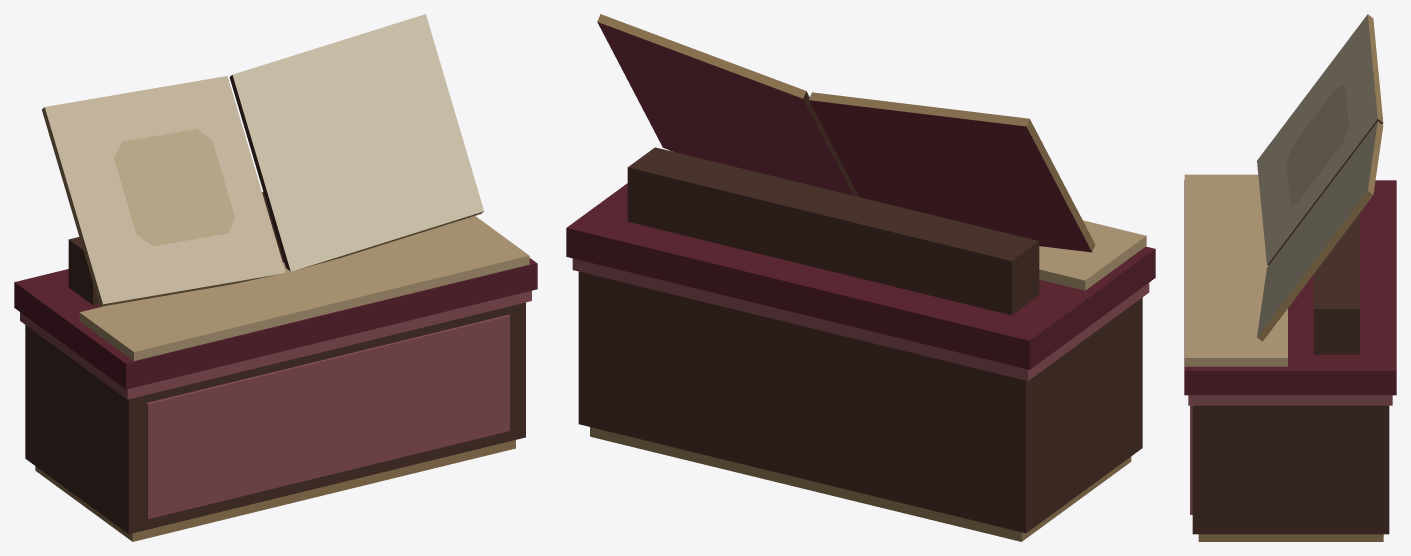
File: s04-patch-folio-balanced.glb
3 renders of one model, left to right at view 1: azimuth 30°, elevation 25°; view 2: azimuth 150°, elevation 25°; view 3: azimuth 270°, elevation 25°, orthographic. The views are drawn at different scales.
Parts seen in each view (by area): view 1: Open patch folio; view 2: Open patch folio; view 3: Open patch folio.
Boxes of the visible parts, x1,y1,x2,y2 form: Open patch folio: [14, 14, 537, 541]; Open patch folio: [566, 14, 1155, 541]; Open patch folio: [1184, 14, 1396, 541].
Bounding box in the file's own units: 2.34 × 2.01 × 1.1.
